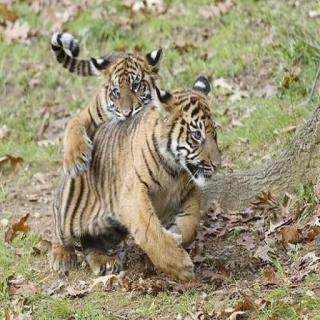Tiger: (45, 76, 226, 284), (46, 28, 164, 180)
